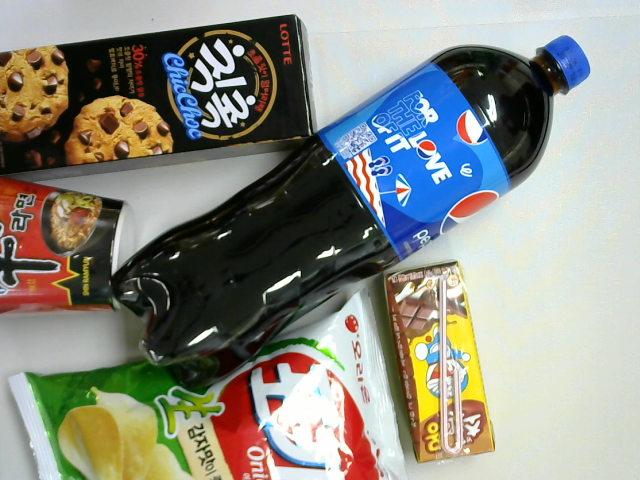Chicchok_Original_2400: (1, 10, 319, 197)
Choco_E_Mong: (382, 262, 497, 465)
Pepsi_Cola_1.5L: (109, 35, 592, 395)
Pocachip_Onion: (6, 287, 414, 480)
Sinramen_small: (1, 176, 137, 314)
